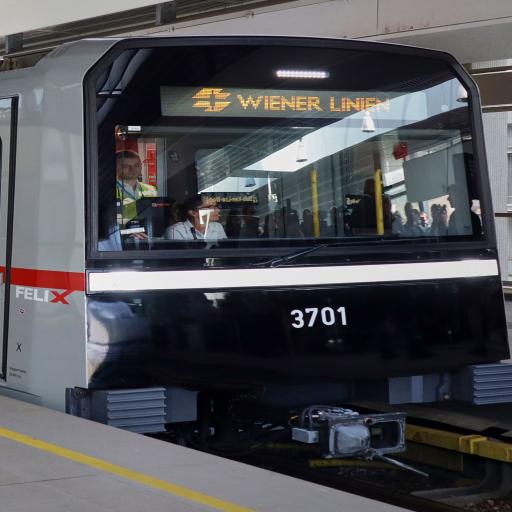X-Wagen: (4, 36, 510, 436)
